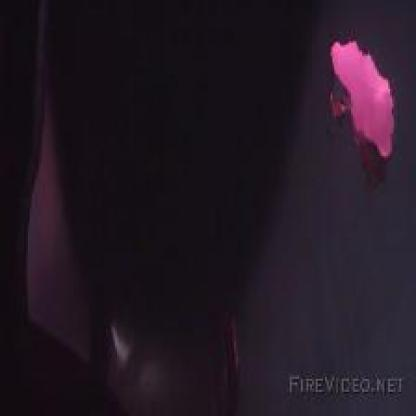fire: (325, 35, 398, 160)
